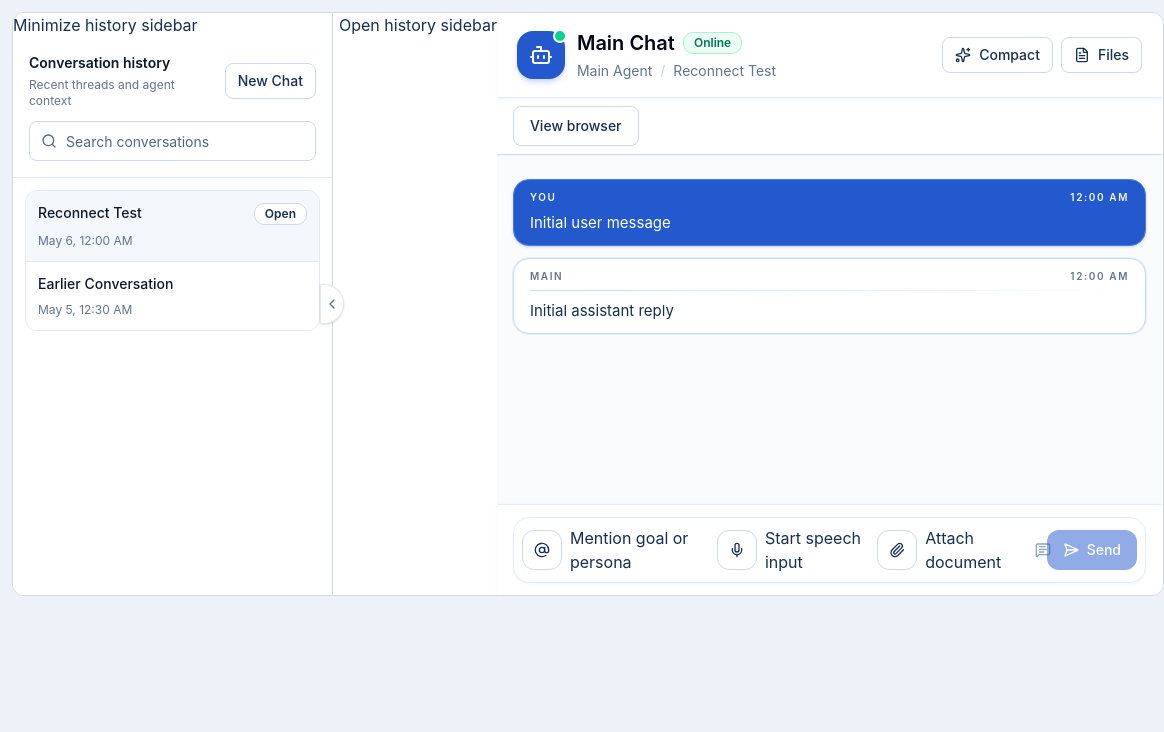
Test: ConversationWorkspace › updates the pending-turn elapsed time every second
Check: the text "Initial assistant reply" is shown, box x1=530 y1=301 x2=674 y2=320
Type "Keep working." into the field labelled "Message Main".
click(1063, 550); type("Keep working.")  # box x1=1059 y1=530 x2=1067 y2=570
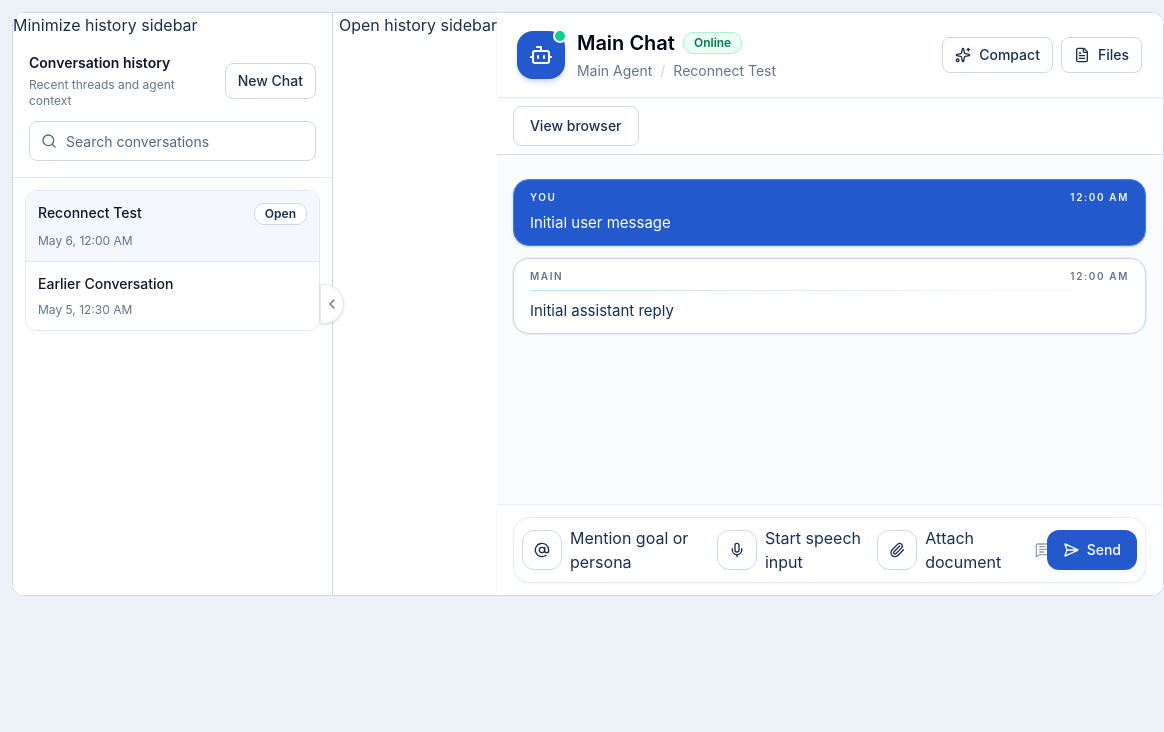
Click the button "Send".
click(1092, 550)  # box x1=1047 y1=530 x2=1137 y2=570
Wait 1000 ms
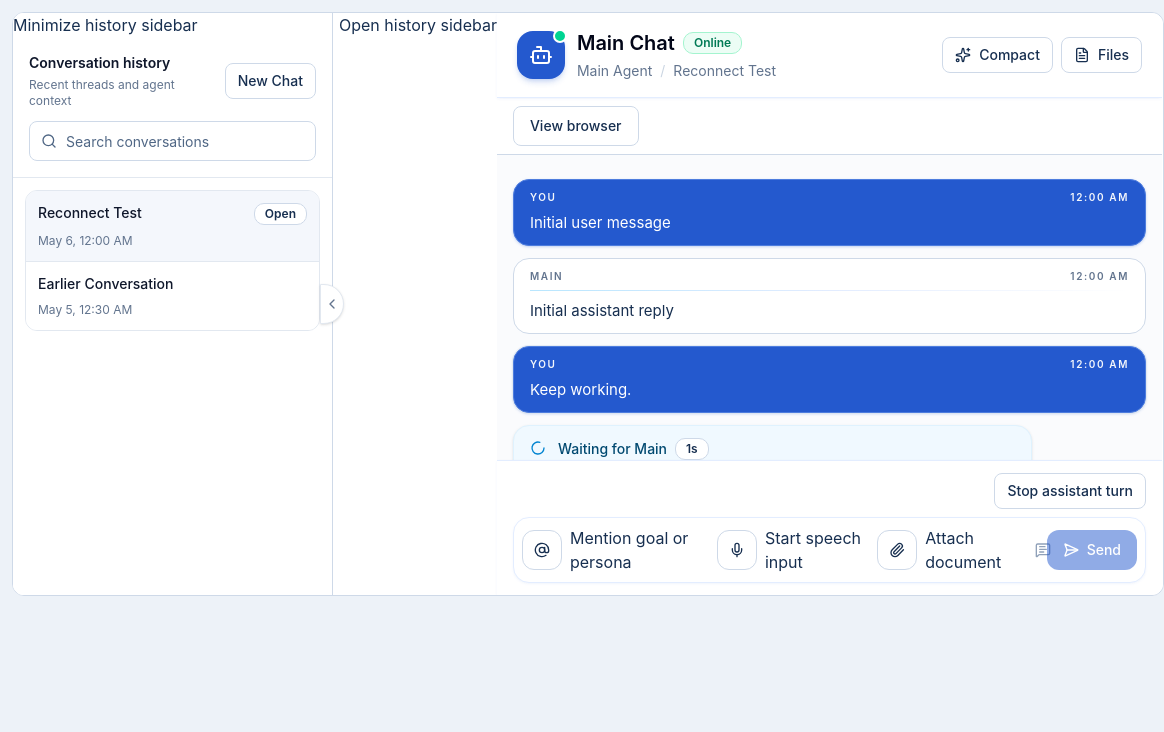
Check: the text "1s" is shown, box x1=675 y1=438 x2=709 y2=460
